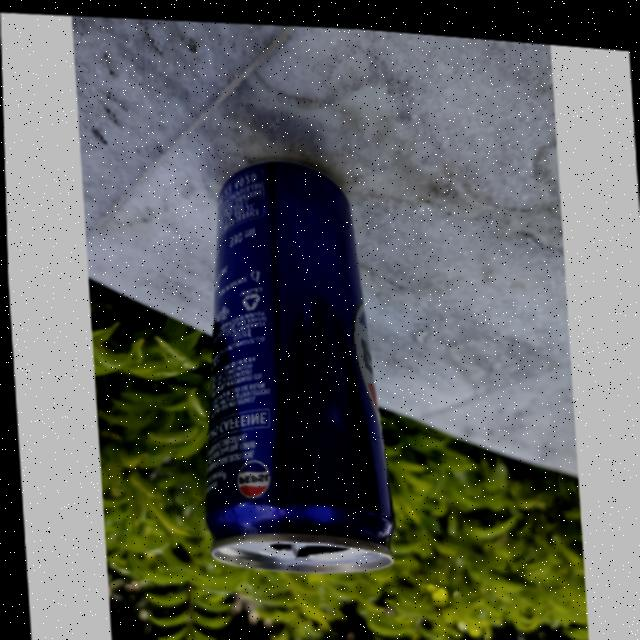Pepsi: (172, 126, 404, 583)
